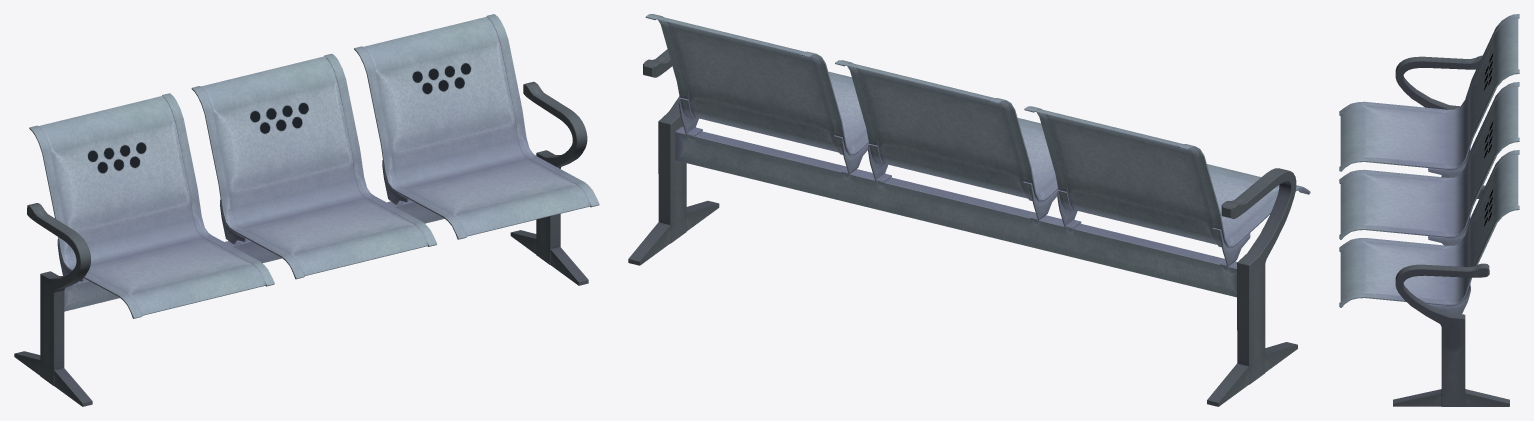
Rendered from WaitingChair.fbx.
3 views of the same model, side by side, from view 1: azimuth 30°, elevation 25°; view 2: azimuth 150°, elevation 25°; view 3: azimuth 270°, elevation 25° (orthographic). The views are drawn at different scales.
Visible parts, largest first — view 1: WaitingChair; view 2: WaitingChair; view 3: WaitingChair.
Boxes of the visible parts, <box> form: WaitingChair: <box>14,14,599,406</box>; WaitingChair: <box>628,14,1310,406</box>; WaitingChair: <box>1339,14,1519,406</box>.
Size of the model in its own units: 228 by 94.71 by 81.69.
